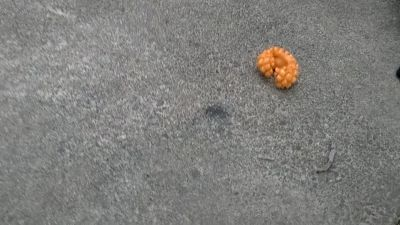eggs: (253, 46, 299, 90)
